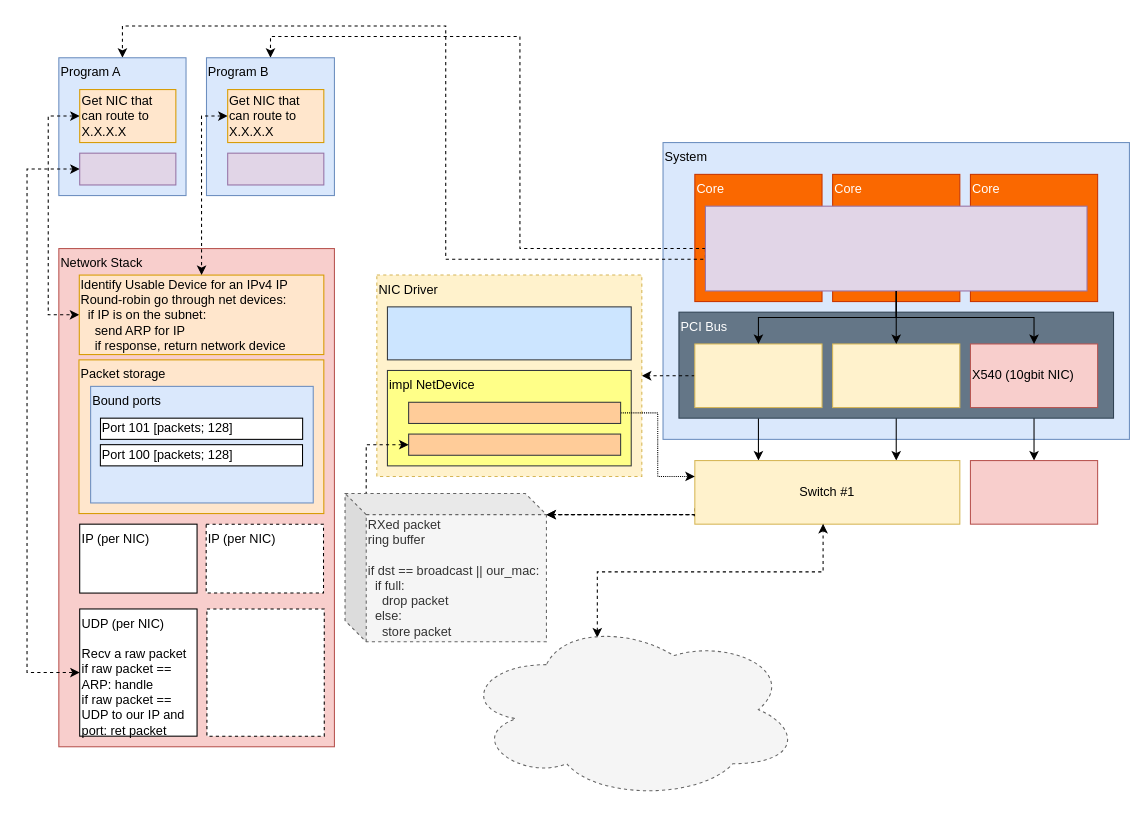
This 1148x818 diagram has some shape labels left out. The shapes that lost their labels are listed below. From the top down, each one's centre as x and y in pixels, then its label:
At [127,168]: "recv UDP 101".
At [275,168]: "UDP 100".
At [895,248]: "Kernel".
At [508,333]: "NIC-specific data".
At [758,375]: "E1000 (1gbit NIC)".
At [896,375]: "E1000E (1gbit NIC)".
At [514,412]: "Raw Transmit".
At [514,444]: "Raw Receive".
At [1033,492]: "Switch #2".
At [265,672]: "UDP (per NIC)".
At [631,709]: "External System Sending UDP 101 ARP for our NIC IP Send UDP to NIC IP 101".
